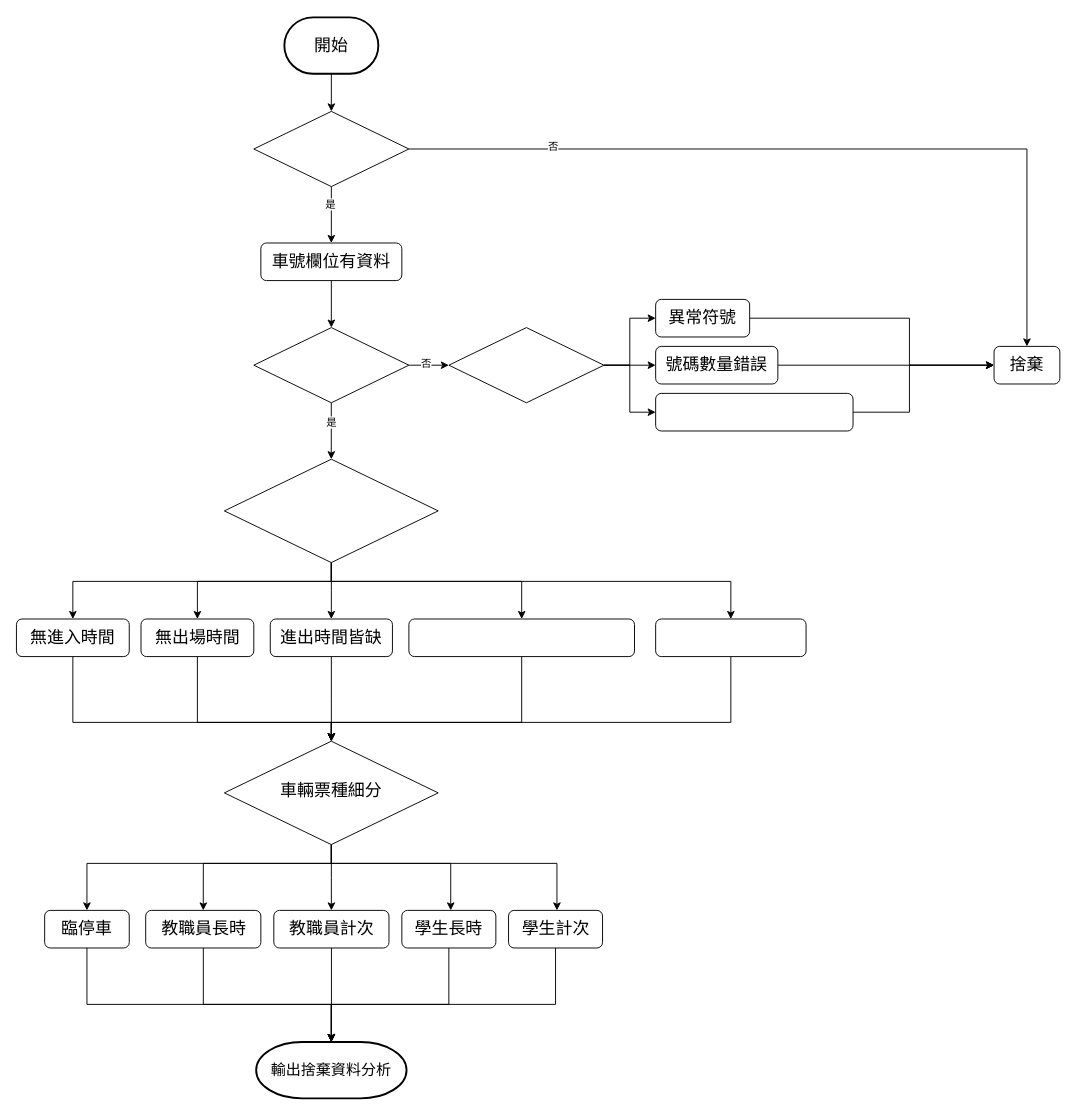
The diagram is 1076 pixels wide and 1115 high, and some of its shapes have lost their labels. The shapes that lost their labels are listed below. From the top down, each one's box as (x1, y1, x2, y2) in pixels, then its label:
(253, 110, 409, 187): 資料存在
(253, 327, 409, 403): 車號可辨識
(448, 327, 604, 403): 異常類型
(655, 392, 853, 431): 數量錯誤且包含異常符號
(223, 458, 438, 563): 時間資料完整性
(408, 618, 634, 657): 進入時間大於等於出場時間
(655, 618, 806, 657): 停留時間超過七天
